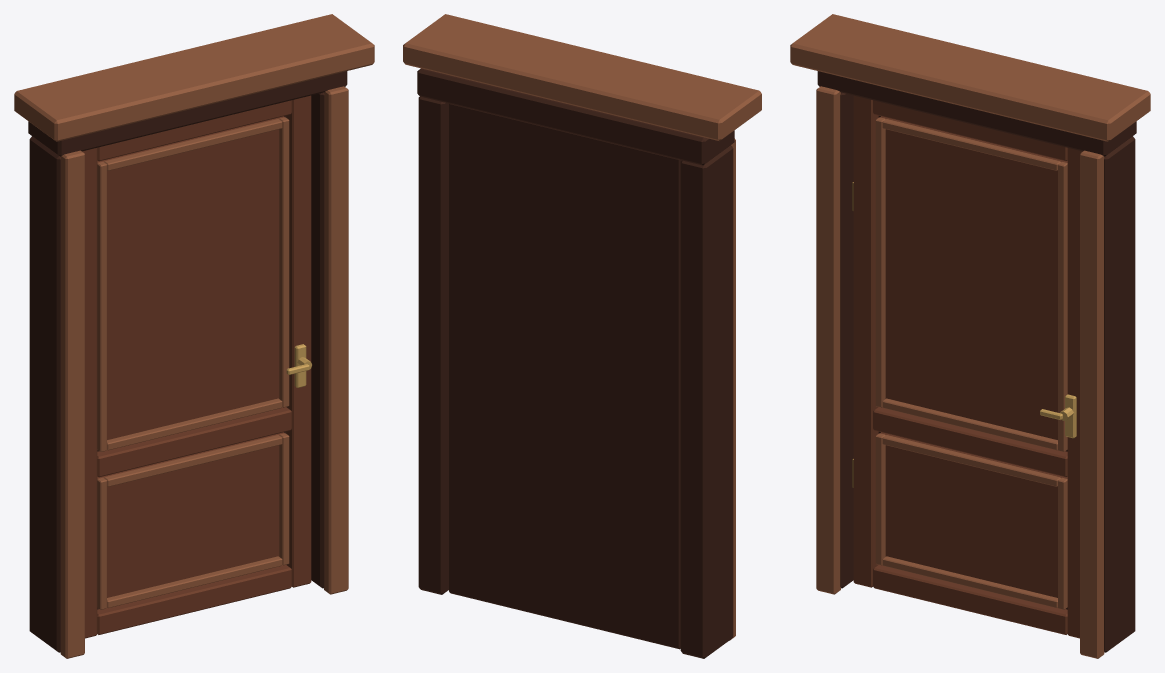
The model's file is door_03.glb.
The picture shows the model from 3 angles, left to right: view 1: azimuth 30°, elevation 25°; view 2: azimuth 150°, elevation 25°; view 3: azimuth 330°, elevation 25°; orthographic projection.
Visible parts, largest first — view 1: Panel_0_1_Field, Cornice, Panel_0_0_Field, Jamb__1, Jamb_moulding_1, Jamb_moulding__1, Leaf_stile_0_1, Jamb_1, Leaf_stile_0__1, Lintel, Leaf_crossrail_0_0_778, Leaf_crossrail_0_0_048 (+9 smaller); view 2: Leaf_0, Jamb__1, Cornice, Jamb_1, Lintel, Jamb_moulding__1; view 3: Panel_0_1_Field, Cornice, Panel_0_0_Field, Jamb_1, Jamb_moulding__1, Jamb_moulding_1, Leaf_stile_0__1, Jamb__1, Leaf_stile_0_1, Lintel, Leaf_crossrail_0_0_778, Leaf_crossrail_0_0_048 (+9 smaller).
Boxes of the visible parts, left/top/right/bottom form: Panel_0_1_Field: left=97, top=116, right=284, bottom=439; Cornice: left=14, top=14, right=374, bottom=141; Panel_0_0_Field: left=97, top=432, right=284, bottom=597; Jamb__1: left=29, top=136, right=60, bottom=652; Jamb_moulding_1: left=324, top=86, right=348, bottom=594; Jamb_moulding__1: left=60, top=150, right=84, bottom=658; Leaf_stile_0_1: left=286, top=95, right=311, bottom=587; Jamb_1: left=311, top=92, right=324, bottom=588; Leaf_stile_0__1: left=82, top=148, right=97, bottom=638; Lintel: left=28, top=71, right=347, bottom=156; Leaf_crossrail_0_0_778: left=97, top=407, right=291, bottom=477; Leaf_crossrail_0_0_048: left=97, top=565, right=291, bottom=634; Leaf_0: left=449, top=103, right=681, bottom=649; Jamb__1: left=680, top=145, right=733, bottom=658; Cornice: left=403, top=14, right=761, bottom=141; Jamb_1: left=418, top=96, right=448, bottom=594; Lintel: left=417, top=68, right=734, bottom=165; Jamb_moulding__1: left=729, top=138, right=735, bottom=640; Panel_0_1_Field: left=880, top=116, right=1067, bottom=439; Cornice: left=790, top=14, right=1150, bottom=141; Panel_0_0_Field: left=880, top=432, right=1067, bottom=597; Jamb_1: left=1104, top=136, right=1135, bottom=652; Jamb_moulding__1: left=816, top=86, right=840, bottom=594; Jamb_moulding_1: left=1080, top=150, right=1104, bottom=658; Leaf_stile_0__1: left=853, top=95, right=878, bottom=587; Jamb__1: left=840, top=92, right=853, bottom=588; Leaf_stile_0_1: left=1067, top=148, right=1082, bottom=638; Lintel: left=817, top=71, right=1136, bottom=156; Leaf_crossrail_0_0_778: left=873, top=407, right=1067, bottom=477; Leaf_crossrail_0_0_048: left=873, top=565, right=1067, bottom=634.
Bounding box in the file's own units: 1.55 × 2.54 × 0.37.
